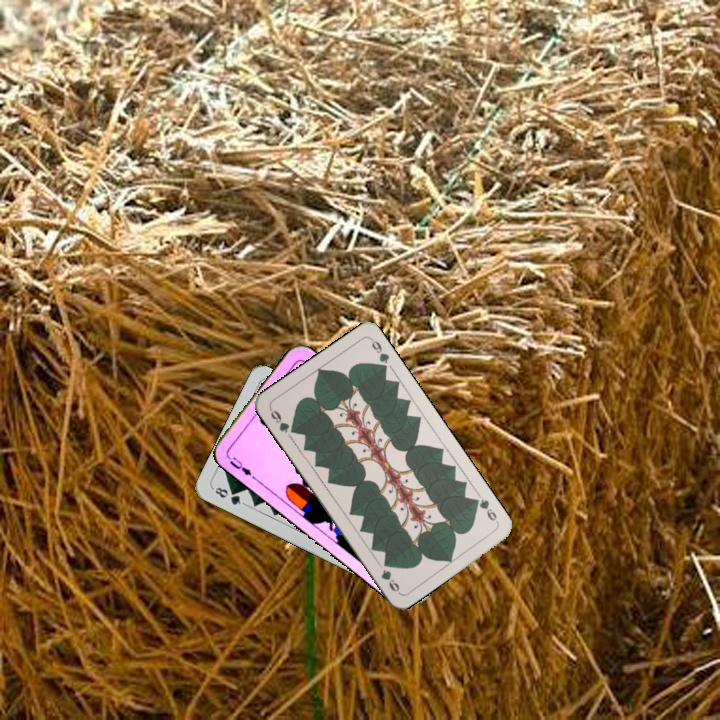EU: (223, 452, 254, 478)
G8: (209, 483, 247, 508)
G9: (468, 494, 501, 526), (266, 405, 299, 436)
